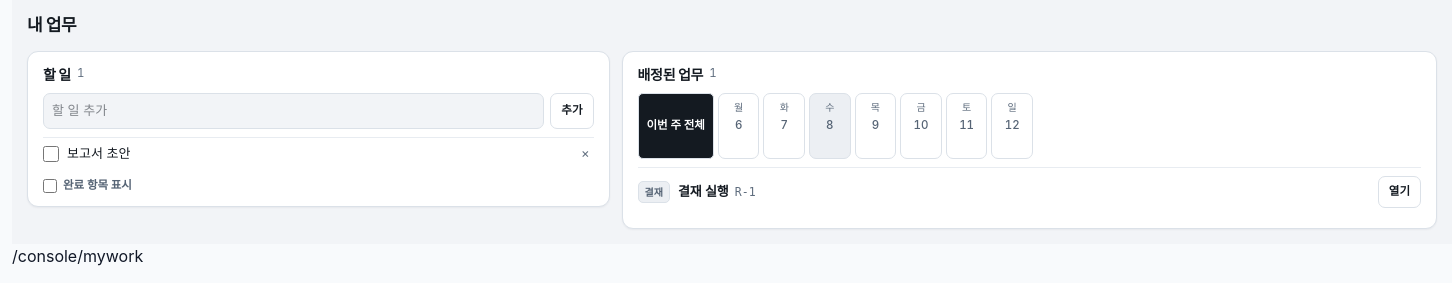
Test: MyWorkBody › routes the canonical approval_run kind by its authoritative run id
Click the button "열기". click: (1399, 192)
box: top-left (1378, 176), bottom-right (1421, 208)
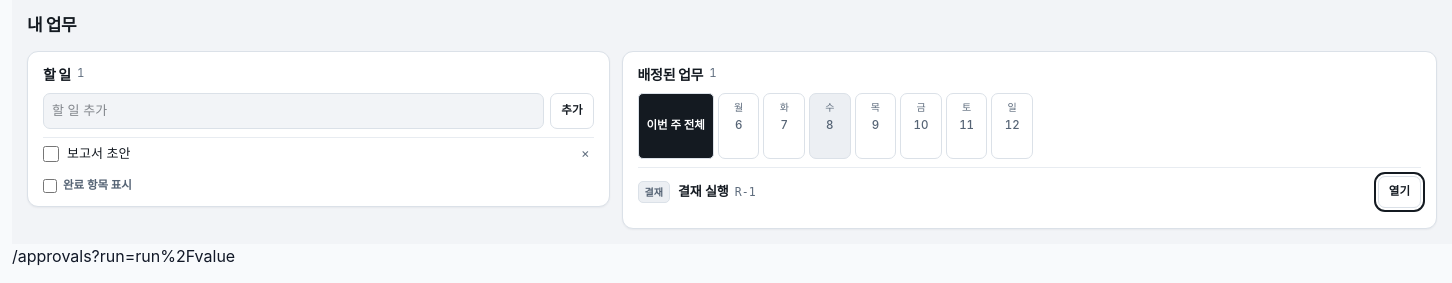
Now the text "/approvals?run=run%2Fvalue" is shown, box top-left (12, 246), bottom-right (235, 266)
